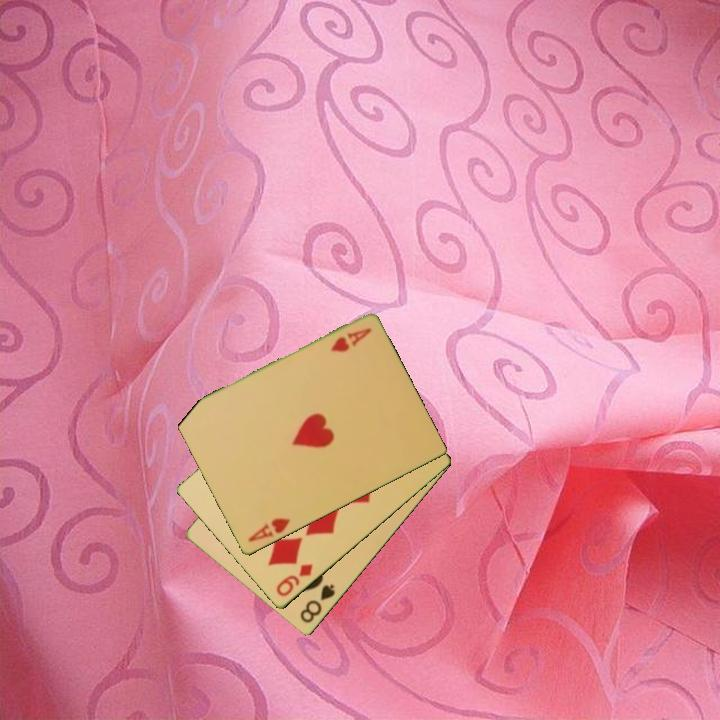8s: (296, 581, 338, 626)
9d: (273, 561, 316, 600)
Ah: (244, 515, 293, 545), (327, 325, 374, 356)
